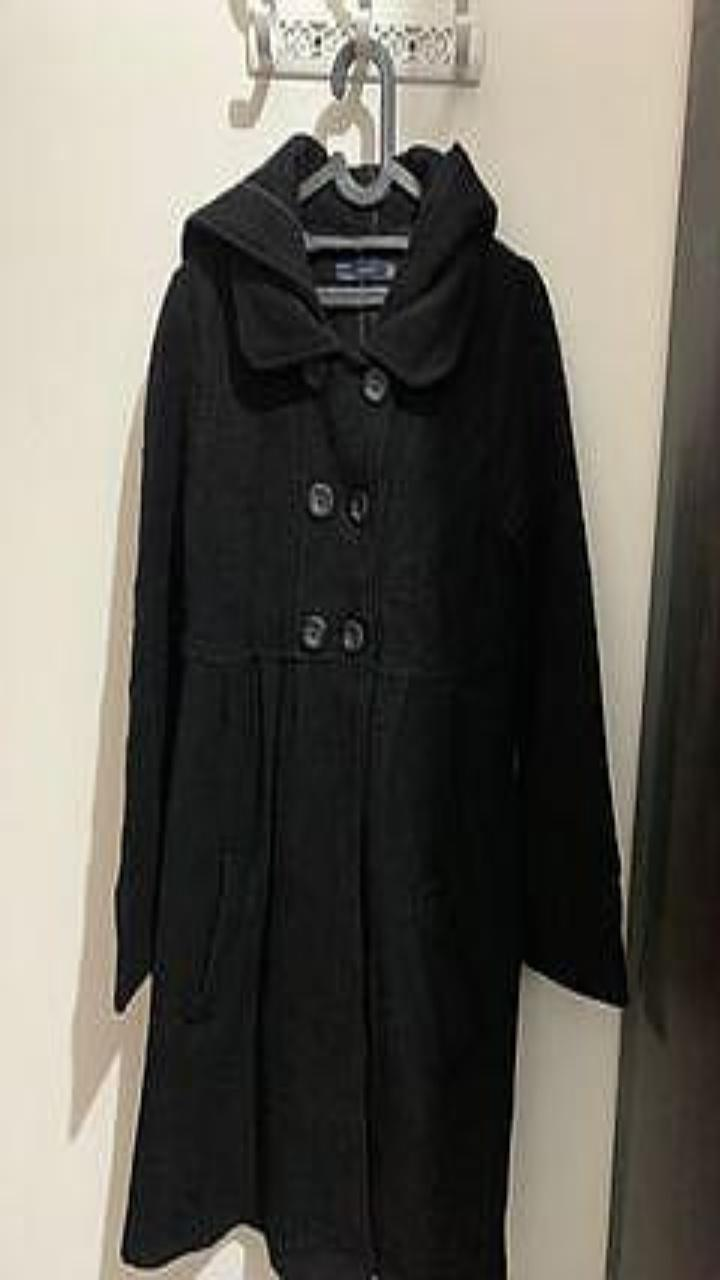Coat: (114, 132, 627, 1279)
